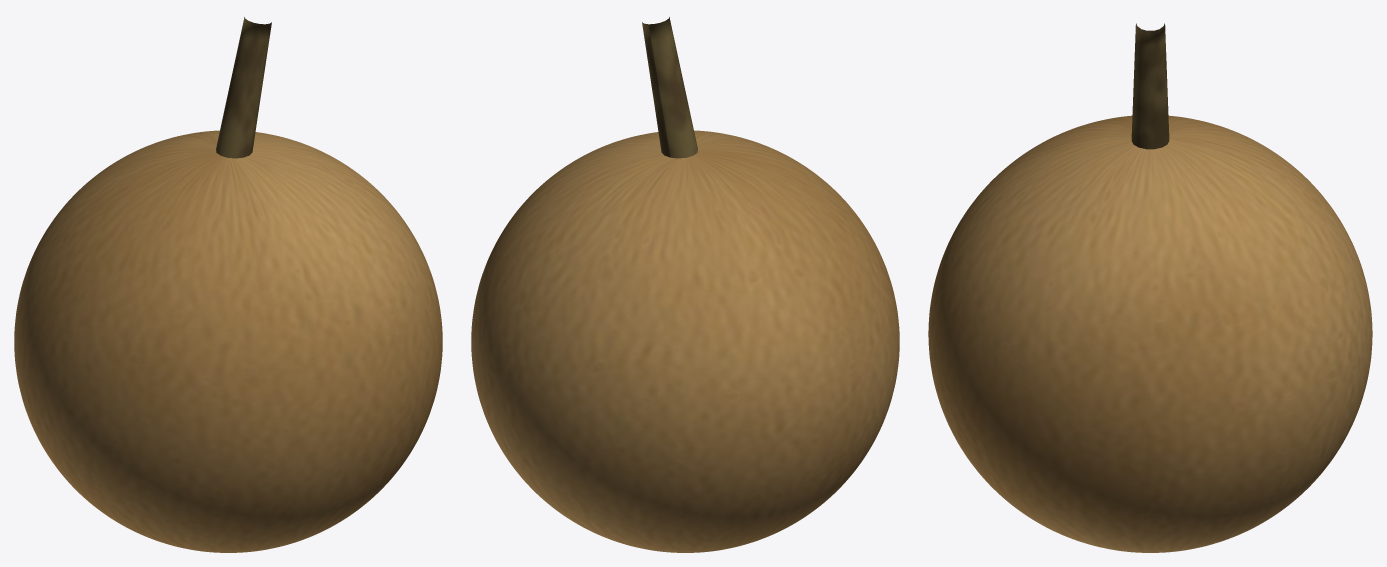
The model's file is longani.glb.
3 renders of one model, left to right at view 1: azimuth 30°, elevation 25°; view 2: azimuth 150°, elevation 25°; view 3: azimuth 270°, elevation 25°, orthographic. The views are drawn at different scales.
Parts seen in each view (by area): view 1: entier_peau, moitie_A_peau, moitie_B_peau, entier_extra0; view 2: entier_peau, moitie_B_peau, moitie_A_peau, entier_extra0; view 3: entier_peau, moitie_A_peau, moitie_B_peau, entier_extra0.
Part boxes in pixels (bbox=[...]): entier_peau: bbox=[14, 130, 442, 552]; moitie_A_peau: bbox=[46, 146, 442, 552]; moitie_B_peau: bbox=[14, 130, 343, 502]; entier_extra0: bbox=[216, 17, 271, 158]; entier_peau: bbox=[471, 130, 899, 552]; moitie_B_peau: bbox=[471, 146, 867, 552]; moitie_A_peau: bbox=[577, 130, 899, 502]; entier_extra0: bbox=[642, 17, 697, 158]; entier_peau: bbox=[928, 115, 1372, 552]; moitie_A_peau: bbox=[928, 116, 1149, 552]; moitie_B_peau: bbox=[1151, 116, 1372, 552]; entier_extra0: bbox=[1131, 23, 1169, 149].
Size of the model in its own units: 0.0244 by 0.032 by 0.0244.
3 materials, 3 textured.
